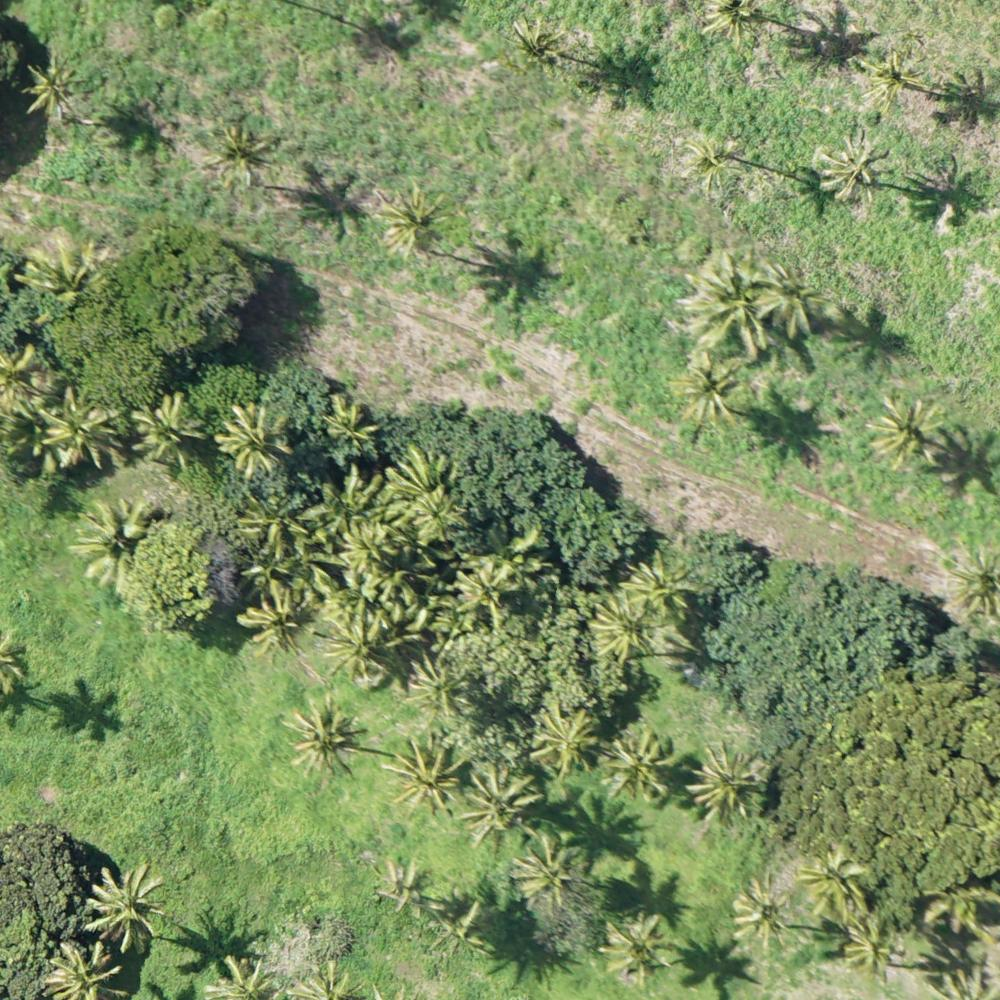Palm: (682, 250, 779, 355), (72, 500, 165, 592), (380, 732, 474, 821), (321, 600, 415, 686), (456, 761, 547, 847), (681, 742, 771, 826), (85, 865, 170, 949), (439, 552, 528, 631), (24, 229, 105, 313), (285, 696, 368, 776), (40, 394, 120, 475), (525, 698, 606, 776), (603, 730, 679, 812), (866, 393, 941, 475), (759, 254, 838, 331), (667, 355, 745, 430), (800, 847, 875, 924), (617, 554, 698, 625), (597, 910, 672, 985), (129, 390, 203, 465), (374, 184, 450, 257), (240, 594, 316, 666), (403, 650, 476, 724), (583, 598, 661, 667), (212, 402, 291, 469), (508, 846, 582, 917), (43, 942, 129, 1000), (237, 492, 309, 561), (813, 135, 881, 207), (728, 877, 795, 948), (422, 897, 495, 961), (207, 123, 281, 186), (337, 513, 407, 578), (24, 56, 90, 122), (508, 13, 573, 79), (846, 918, 907, 979), (688, 133, 746, 194), (383, 858, 442, 917), (862, 49, 920, 108)
